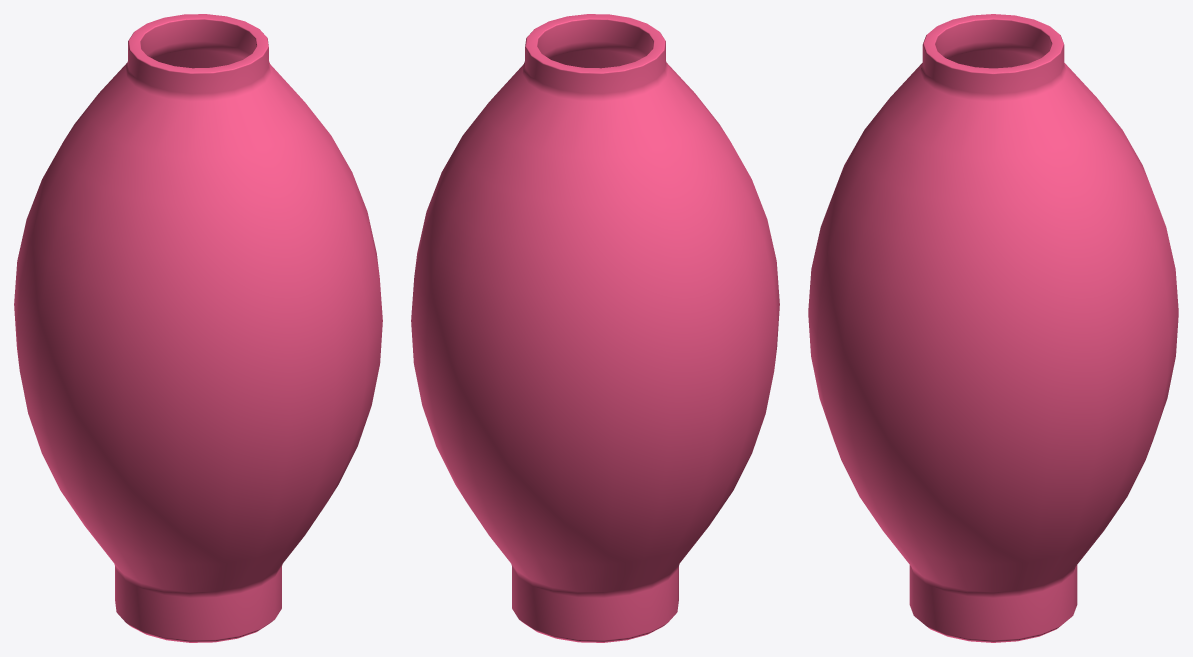
The model's file is Town_19_Vase_4.glb.
The picture shows the model from 3 angles, left to right: view 1: azimuth 30°, elevation 25°; view 2: azimuth 150°, elevation 25°; view 3: azimuth 270°, elevation 25°; orthographic projection.
Visible parts, largest first — view 1: Town_19_Vase_4; view 2: Town_19_Vase_4; view 3: Town_19_Vase_4.
Boxes of the visible parts, bbox=[...] form: Town_19_Vase_4: bbox=[14, 14, 382, 642]; Town_19_Vase_4: bbox=[411, 14, 779, 642]; Town_19_Vase_4: bbox=[808, 14, 1178, 642].
Bounding box in the file's own units: 0.3269 × 0.5514 × 0.3269.
Materials: 1 (1 with a texture image).
